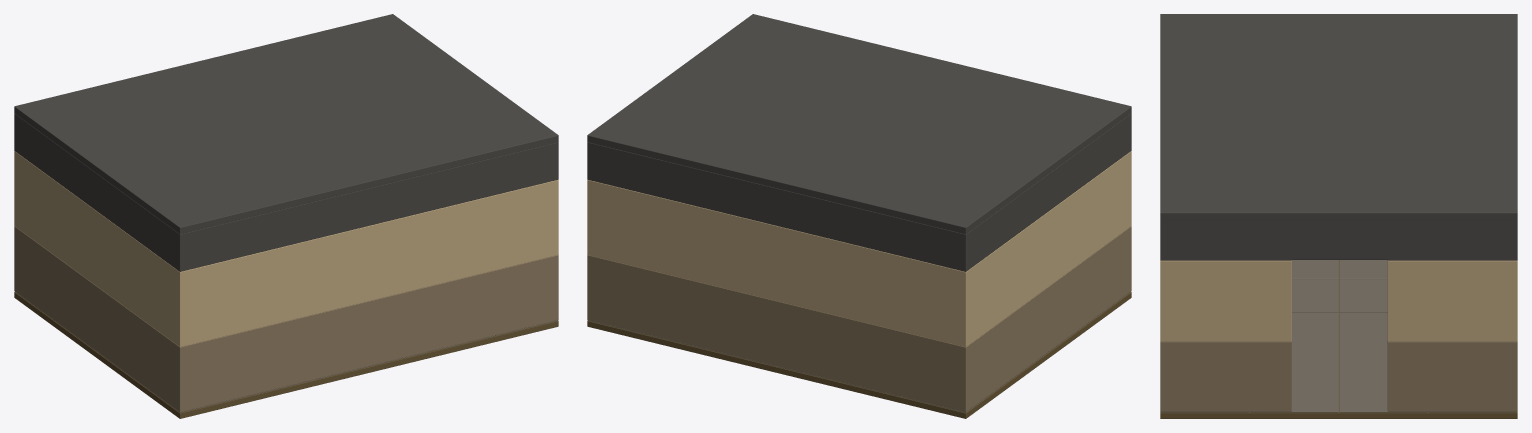
File: gen-cabins.glb
3 renders of one model, left to right at view 1: azimuth 30°, elevation 25°; view 2: azimuth 150°, elevation 25°; view 3: azimuth 270°, elevation 25°, orthographic. The views are drawn at different scales.
Parts seen in each view (by area): view 1: THE CABINS; view 2: THE CABINS; view 3: THE CABINS.
Boxes of the visible parts, x1,y1,x2,y2 form: THE CABINS: [14, 14, 558, 418]; THE CABINS: [587, 14, 1131, 418]; THE CABINS: [1160, 14, 1517, 418].
Bounding box in the file's own units: 5.8 × 2.8 × 4.4.
